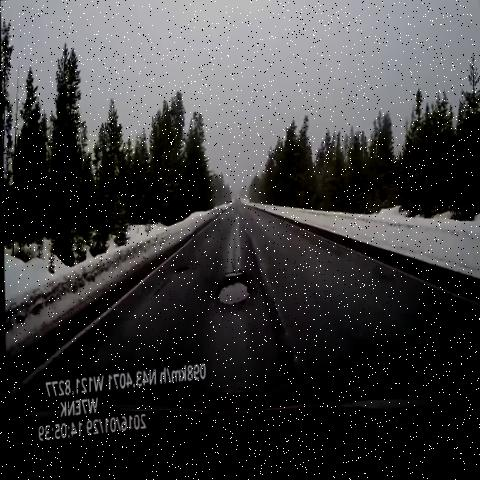pothole: (208, 259, 258, 328)
